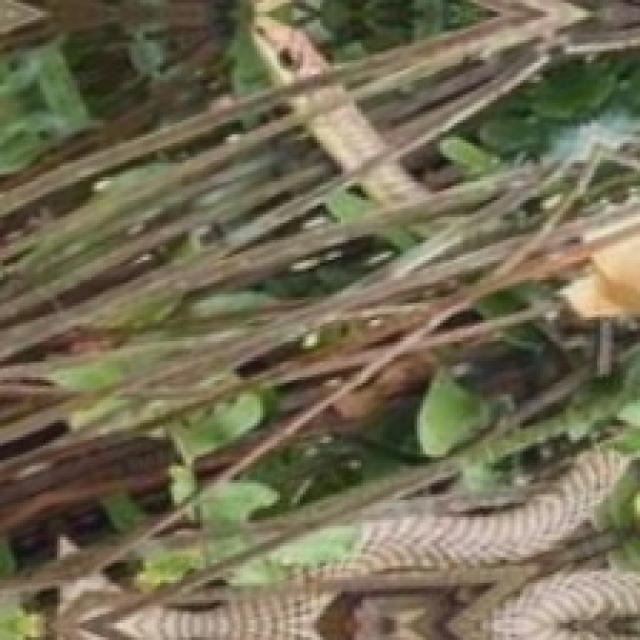paradise tree snake: (58, 449, 640, 640)
